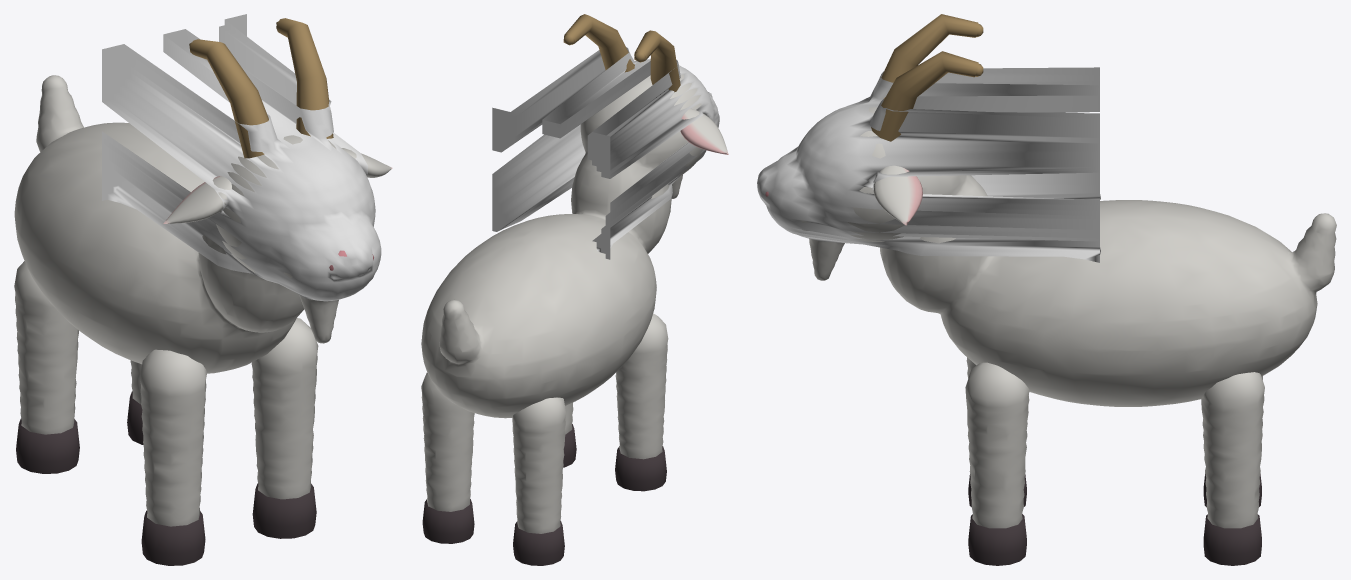
File: folk2_goat_lod1.glb
3 renders of one model, left to right at view 1: azimuth 30°, elevation 25°; view 2: azimuth 150°, elevation 25°; view 3: azimuth 270°, elevation 25°, orthographic. The views are drawn at different scales.
Visible parts, largest first — view 1: goat_body, goat_face, goat_leg_fl, goat_leg_fr, goat_leg_bl, goat_leg_br; view 2: goat_body, goat_face, goat_leg_bl, goat_leg_fl, goat_leg_br, goat_leg_fr; view 3: goat_body, goat_face, goat_leg_fr, goat_leg_br.
Part boxes in pixels (x1,y1,x2,y2): goat_body: (14, 18, 392, 373); goat_face: (102, 14, 381, 301); goat_leg_fl: (140, 349, 207, 565); goat_leg_fr: (251, 318, 318, 538); goat_leg_bl: (14, 261, 79, 473); goat_leg_br: (127, 360, 143, 444); goat_body: (421, 14, 728, 418); goat_face: (492, 47, 719, 259); goat_leg_bl: (512, 397, 566, 565); goat_leg_fl: (615, 313, 668, 491); goat_leg_br: (421, 373, 474, 543); goat_leg_fr: (563, 402, 576, 467); goat_body: (765, 14, 1336, 406); goat_face: (757, 67, 1100, 262); goat_leg_fr: (965, 362, 1029, 565); goat_leg_br: (1201, 372, 1264, 565).
Size of the model in its own units: 0.413 by 0.9077 by 0.9647.
